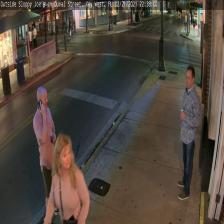person: (43, 134, 89, 223), (32, 86, 56, 224), (177, 64, 201, 198)
